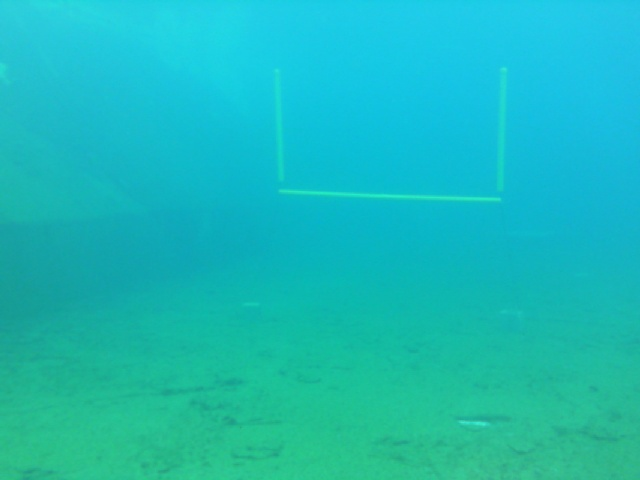channel: (274, 66, 508, 202)
